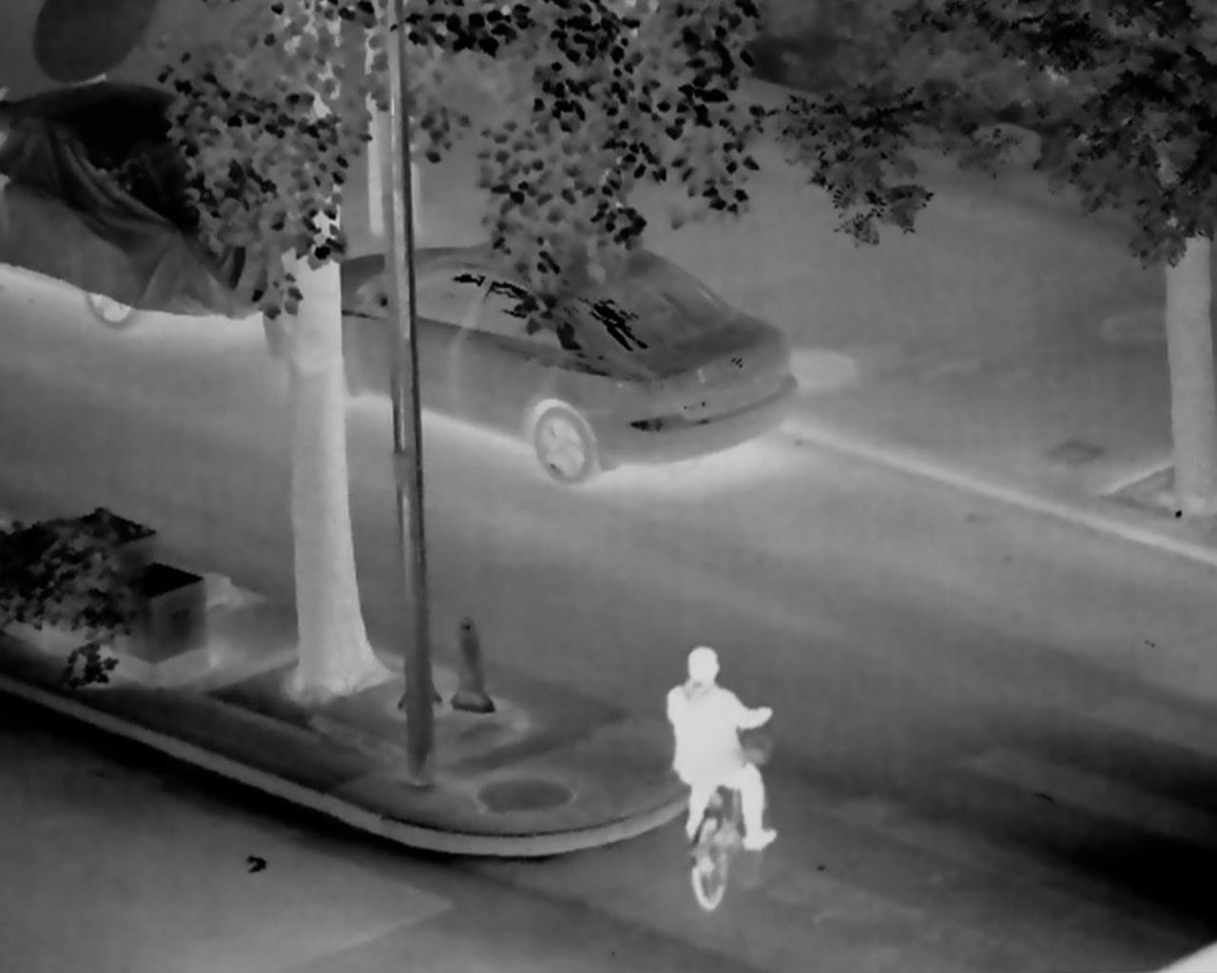person: (663, 644, 782, 856)
